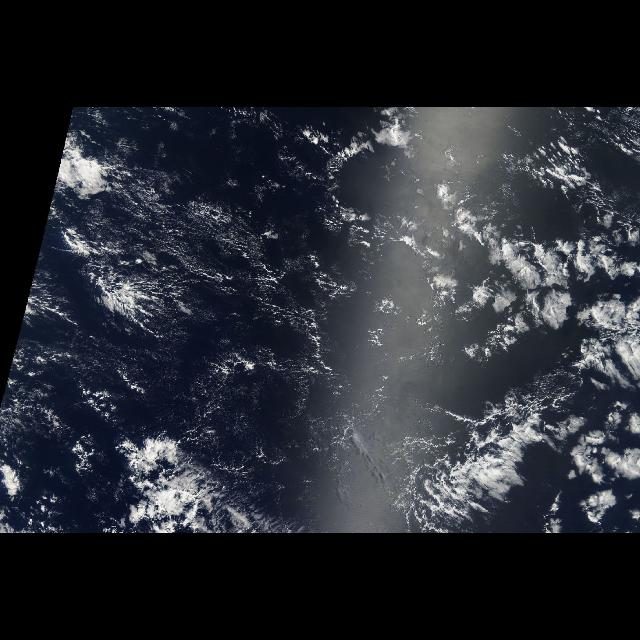Fish: (352, 351, 640, 533)
Flower: (453, 218, 635, 526)
Gravel: (104, 167, 380, 451)
Sugar: (28, 198, 332, 446)
